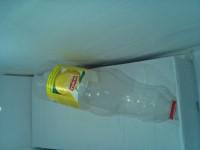bottle: (38, 8, 170, 121)
